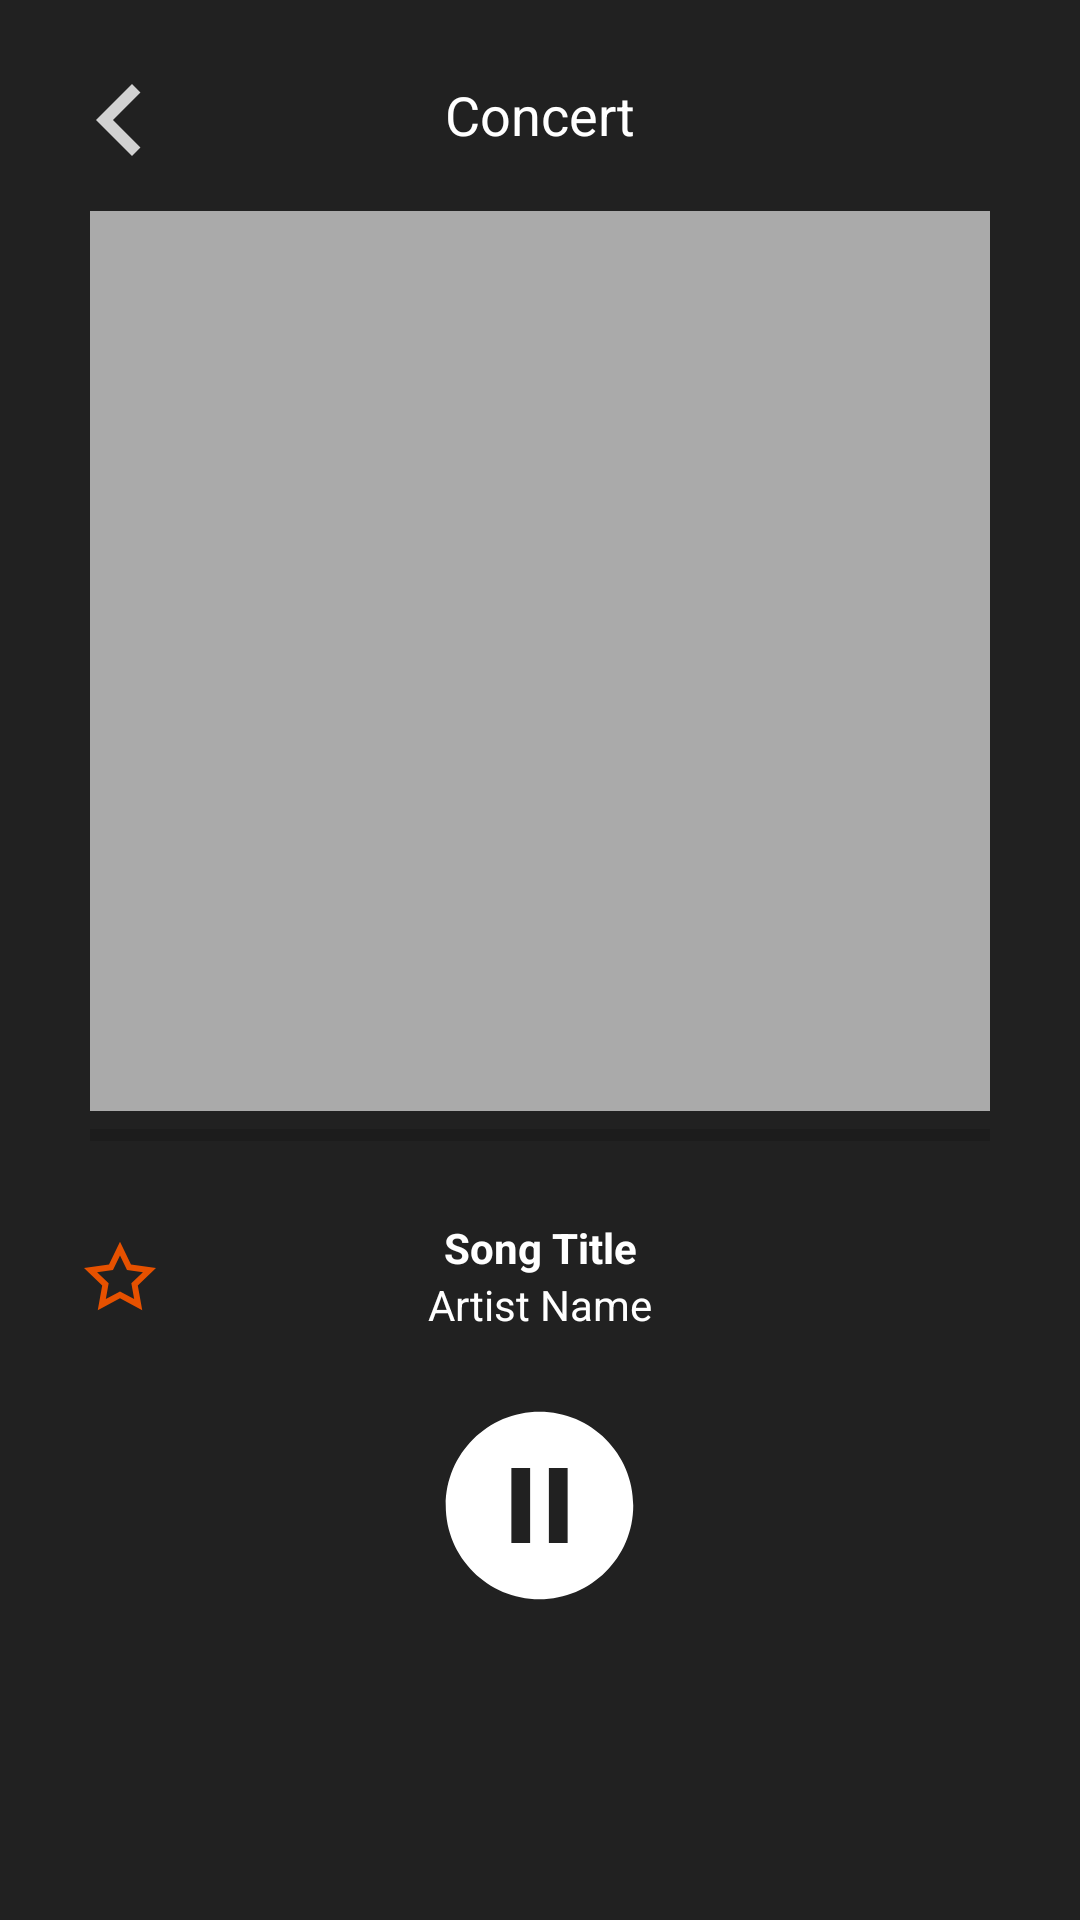

Icons on this 1080*1920 Android screen, each with the point to tap as (x,y):
chevron left: (118,120)
pause circle: (539,1505)
unstar: (120,1276)
